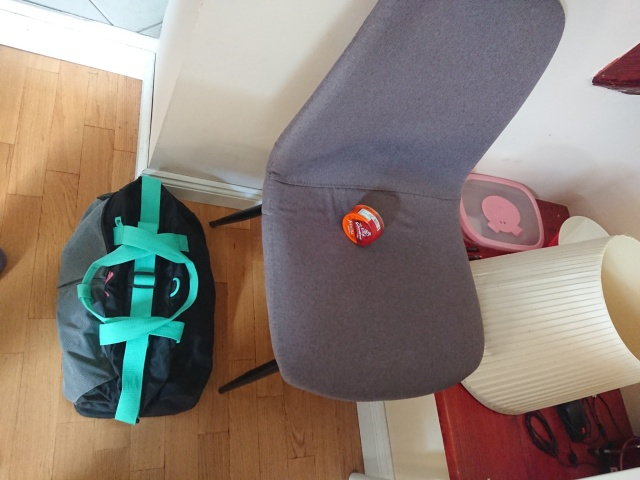Gavrilovic Pork Liver Pate 100g: (340, 202, 386, 248)
